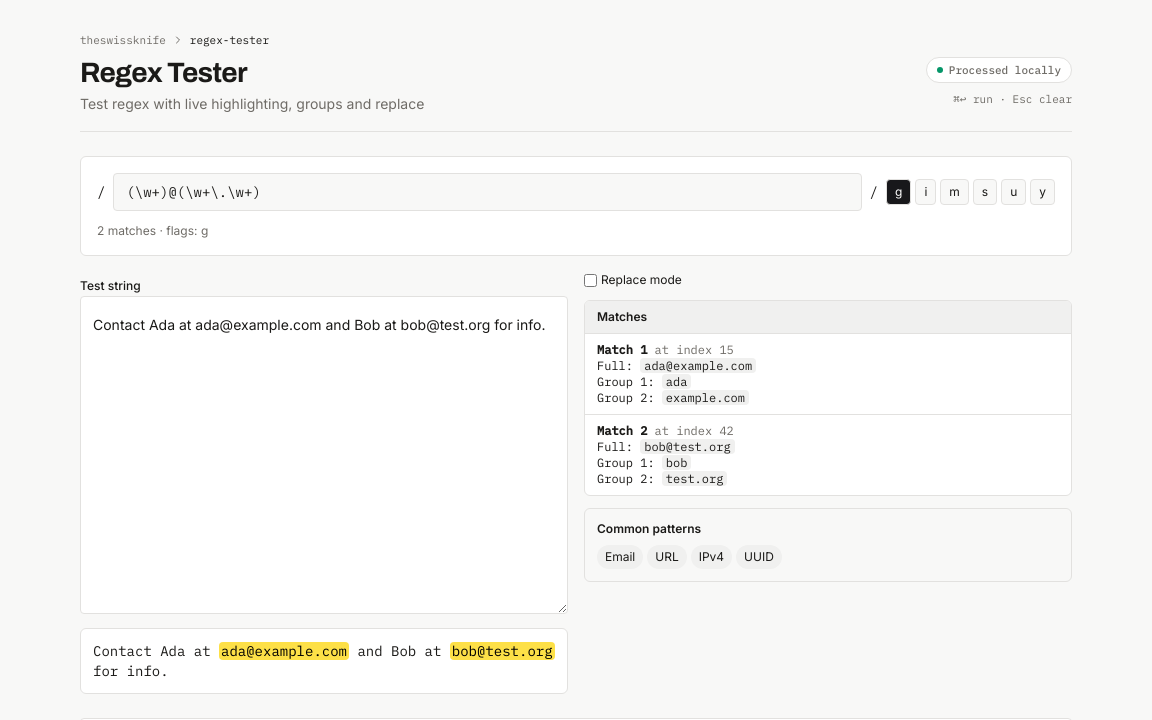
Regex Tester › replace mode
The image size is (1152, 720).
Step 1. Click the checkbox labelled "Replace mode" → (590, 280), box [584,274,597,287]
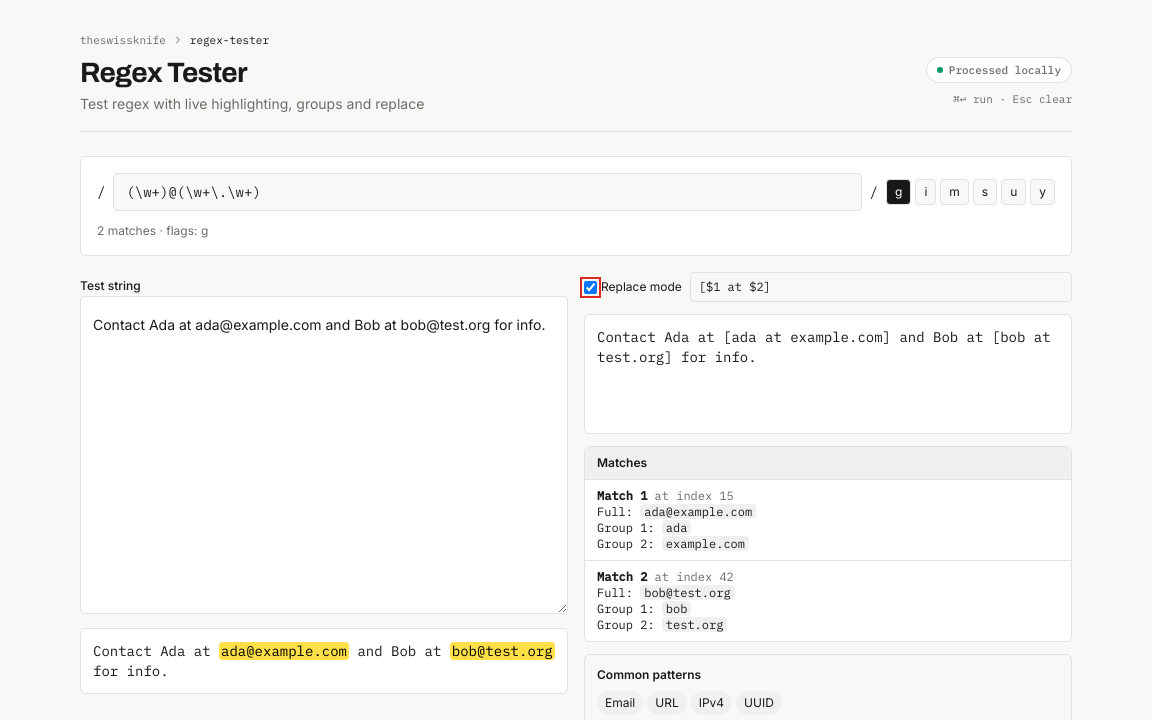
Check: the field with placeholder "Replacement…" next to "Replace mode" is shown, box [690,272,1072,302]
